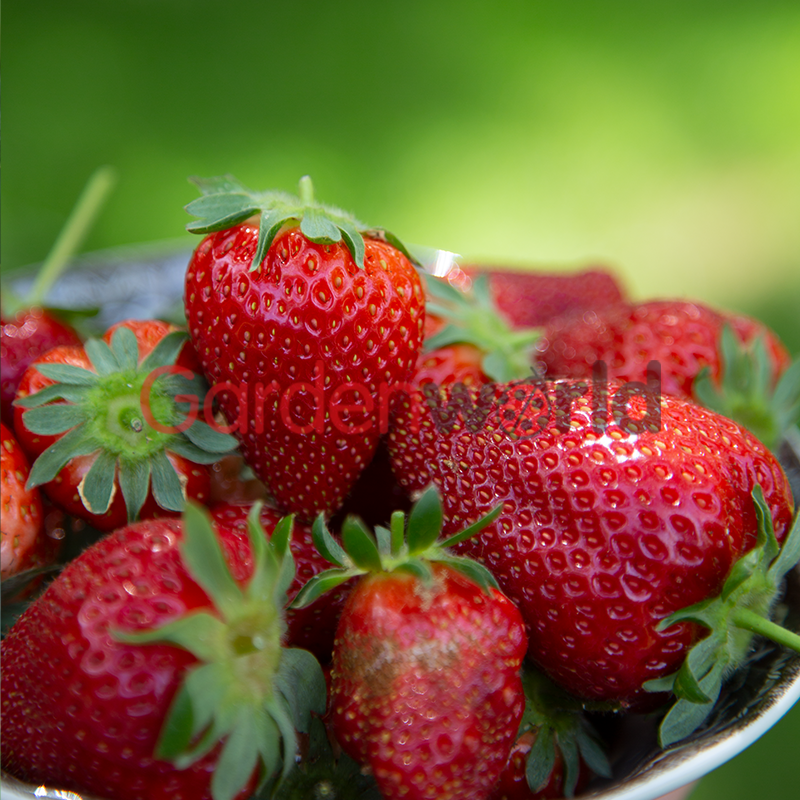ripe: (465, 370, 794, 733), (6, 512, 346, 783), (181, 197, 429, 517), (524, 282, 796, 462), (329, 545, 526, 785), (10, 320, 243, 522), (385, 332, 554, 570), (443, 242, 636, 344), (3, 292, 63, 421), (1, 415, 35, 568)
